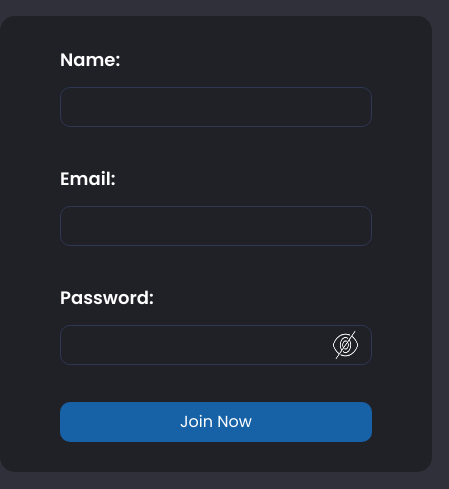
Scenario: Alerta de error › Spans de información incorrecta › Si el email es inválido
Type "Jennygmail.com" into the field labelled "Email:". click: point(216, 226)
box: left=60, top=206, right=372, bottom=246
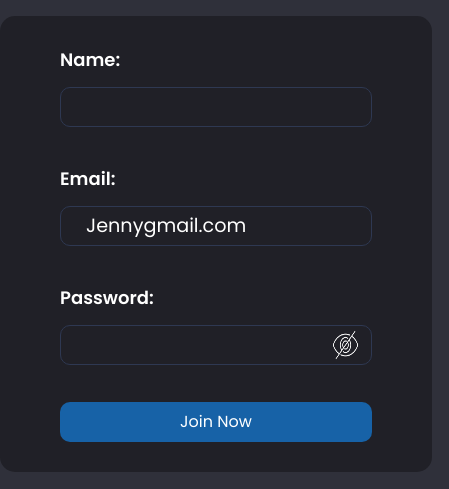
Leave the field labelled "Email:", box left=60, top=206, right=372, bottom=246
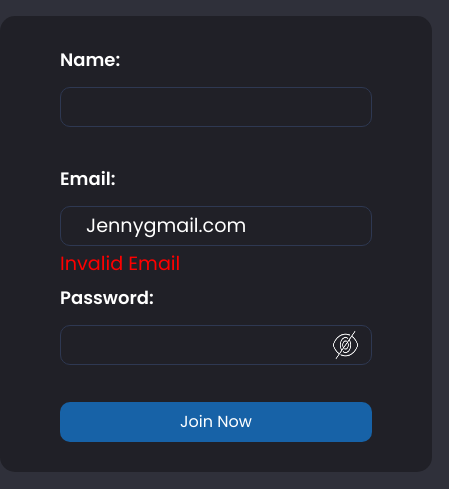
Check: the text "Invalid Email" is shown, box left=60, top=250, right=180, bottom=277
